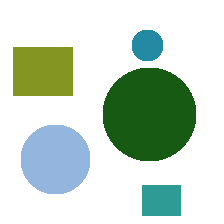circle: (103, 68, 195, 160), (21, 125, 89, 193), (132, 30, 162, 60)
rectangle: (13, 47, 72, 95), (142, 185, 180, 215)
